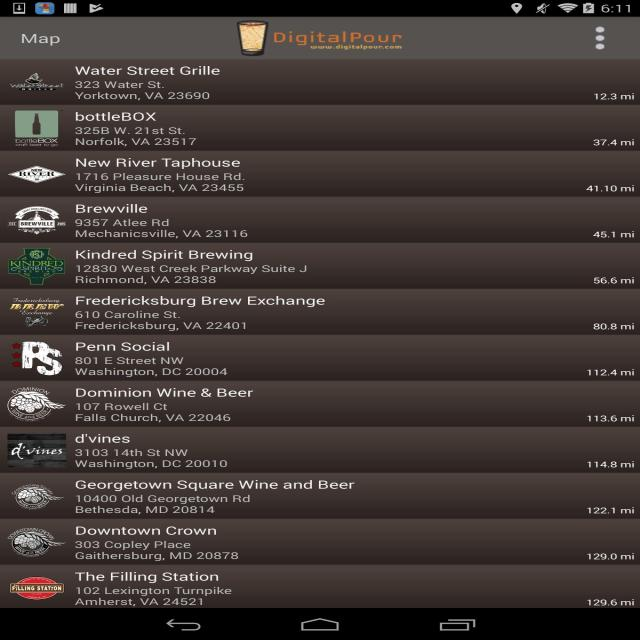button: (588, 24, 614, 55)
heading: (74, 295, 328, 309), (73, 478, 360, 490), (72, 386, 256, 400), (76, 248, 259, 262), (272, 29, 405, 46), (74, 523, 220, 538), (72, 64, 225, 78), (75, 570, 224, 584), (71, 158, 242, 168), (74, 340, 174, 353), (71, 202, 154, 216), (68, 110, 166, 121), (73, 431, 132, 445)
image: (231, 17, 409, 56), (7, 249, 69, 286), (8, 339, 66, 378), (6, 387, 66, 422), (9, 434, 68, 468), (8, 296, 66, 328), (10, 64, 64, 98), (14, 110, 60, 149), (10, 158, 66, 190), (8, 528, 66, 557), (10, 206, 64, 237), (10, 484, 67, 513), (9, 576, 65, 600)
text: (74, 263, 310, 286), (74, 538, 245, 563), (71, 309, 253, 332), (75, 493, 257, 516), (76, 217, 252, 240), (76, 170, 249, 193), (72, 401, 236, 424), (74, 354, 234, 377), (73, 446, 232, 469), (75, 585, 242, 606), (72, 125, 202, 149), (75, 81, 214, 102), (12, 29, 64, 49), (585, 504, 637, 516), (582, 552, 640, 562), (585, 184, 638, 194), (588, 367, 636, 378), (586, 460, 638, 470), (587, 414, 637, 424), (590, 322, 639, 332), (591, 230, 639, 240), (584, 598, 637, 607), (593, 276, 638, 286), (593, 92, 638, 102), (593, 138, 637, 148)
